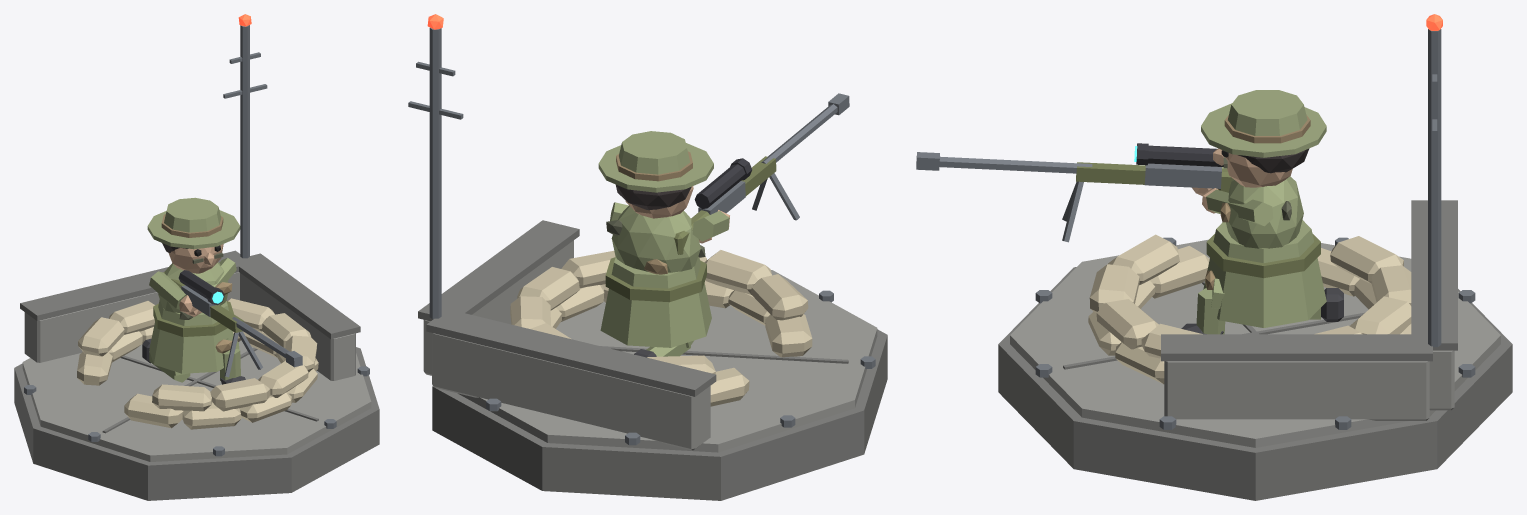
Rendered from sniper.glb.
The picture shows the model from 3 angles, left to right: view 1: azimuth 30°, elevation 25°; view 2: azimuth 150°, elevation 25°; view 3: azimuth 270°, elevation 25°; orthographic projection. The views are drawn at different scales.
Visible parts, largest first — view 1: Cylinder.140, Cylinder.139, Cube.098, Cube.101, Cone.015, Cube.100, Cube.099, Cylinder.149, Cone.016, Cylinder.156, Cube.115, Cube.114 (+23 smaller); view 2: Cylinder.139, Cylinder.140, Cube.098, Cube.100, Cone.015, Cube.101, Icosphere.134, Cylinder.149, Cone.016, Cylinder.156, Cube.099, Cube.115 (+20 smaller); view 3: Cylinder.139, Cylinder.140, Cube.099, Cube.101, Cone.015, Cube.100, Cylinder.149, Icosphere.134, Cone.016, Cylinder.156, Cube.122, Cylinder.152 (+22 smaller).
Boxes of the visible parts, box(x1,y1,x2,y2) form: Cylinder.140: box(22, 340, 371, 461); Cylinder.139: box(14, 347, 379, 500); Cube.098: box(24, 272, 239, 362); Cube.101: box(239, 253, 360, 339); Cone.015: box(149, 299, 233, 373); Cube.100: box(20, 250, 251, 320); Cube.099: box(240, 273, 355, 380); Cylinder.149: box(240, 25, 249, 258); Cone.016: box(164, 197, 221, 232); Cylinder.156: box(147, 210, 240, 249); Cube.115: box(210, 378, 270, 411); Cube.114: box(152, 384, 212, 411); Cylinder.139: box(432, 329, 887, 500); Cylinder.140: box(458, 270, 877, 452); Cube.098: box(432, 333, 710, 450); Cube.100: box(426, 309, 716, 396); Cone.015: box(600, 256, 711, 347); Cube.101: box(418, 220, 579, 321); Icosphere.134: box(611, 205, 700, 272); Cylinder.149: box(429, 27, 441, 319); Cone.016: box(619, 131, 690, 174); Cylinder.156: box(598, 143, 713, 192); Cube.099: box(423, 240, 573, 375); Cube.115: box(704, 250, 771, 294); Cylinder.139: box(998, 267, 1512, 500); Cylinder.140: box(1010, 239, 1500, 447); Cube.099: box(1164, 361, 1429, 420); Cube.101: box(1161, 334, 1432, 361); Cone.015: box(1203, 220, 1326, 327); Cube.100: box(1411, 200, 1457, 350); Cylinder.149: box(1428, 29, 1441, 347); Icosphere.134: box(1226, 176, 1303, 248); Cone.016: box(1228, 90, 1307, 135); Cylinder.156: box(1201, 103, 1326, 157); Cube.122: box(1330, 236, 1403, 283); Cylinder.152: box(1206, 233, 1320, 278).
Bounding box in the file's own units: 3.1 × 3.02 × 3.59.
